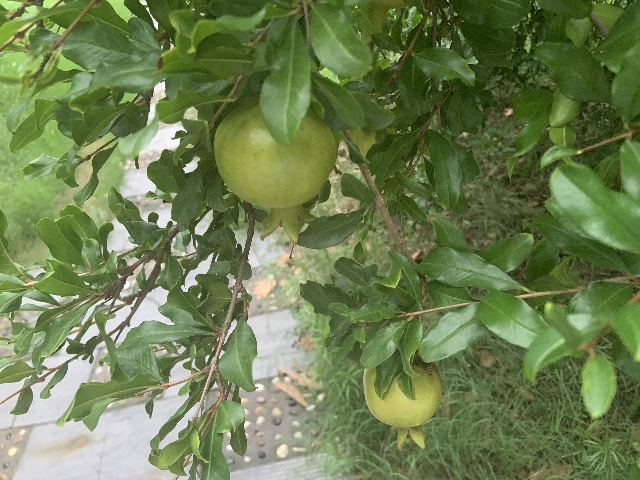mid-growth: (214, 95, 337, 245), (363, 363, 441, 450)
